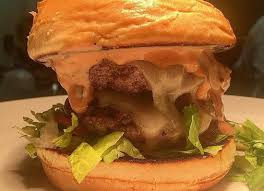hamburger: (26, 1, 239, 191)
